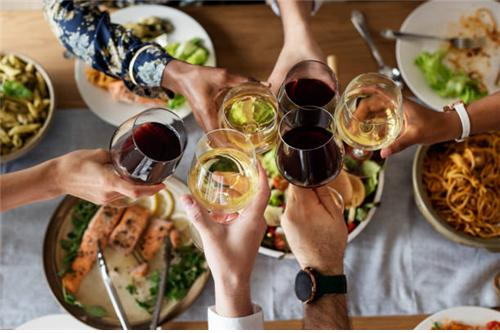alcohol: (184, 128, 256, 225), (104, 106, 184, 184), (270, 109, 345, 189), (338, 75, 404, 158), (212, 82, 275, 160), (277, 59, 337, 119)
